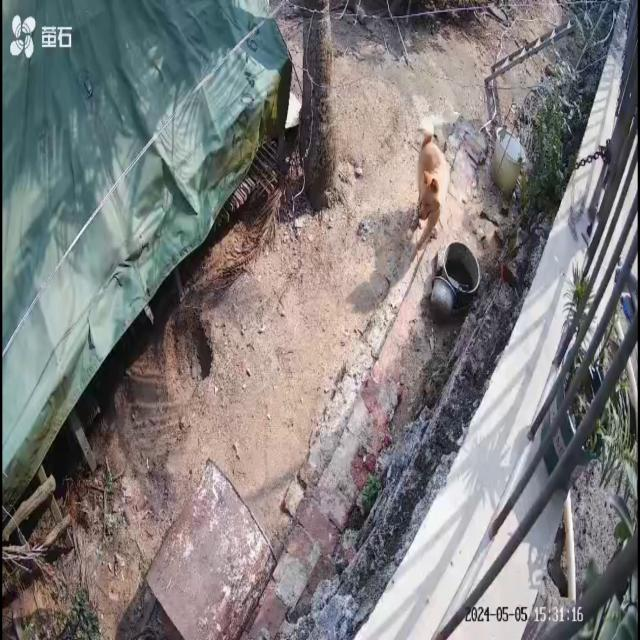dog: (409, 127, 451, 262)
